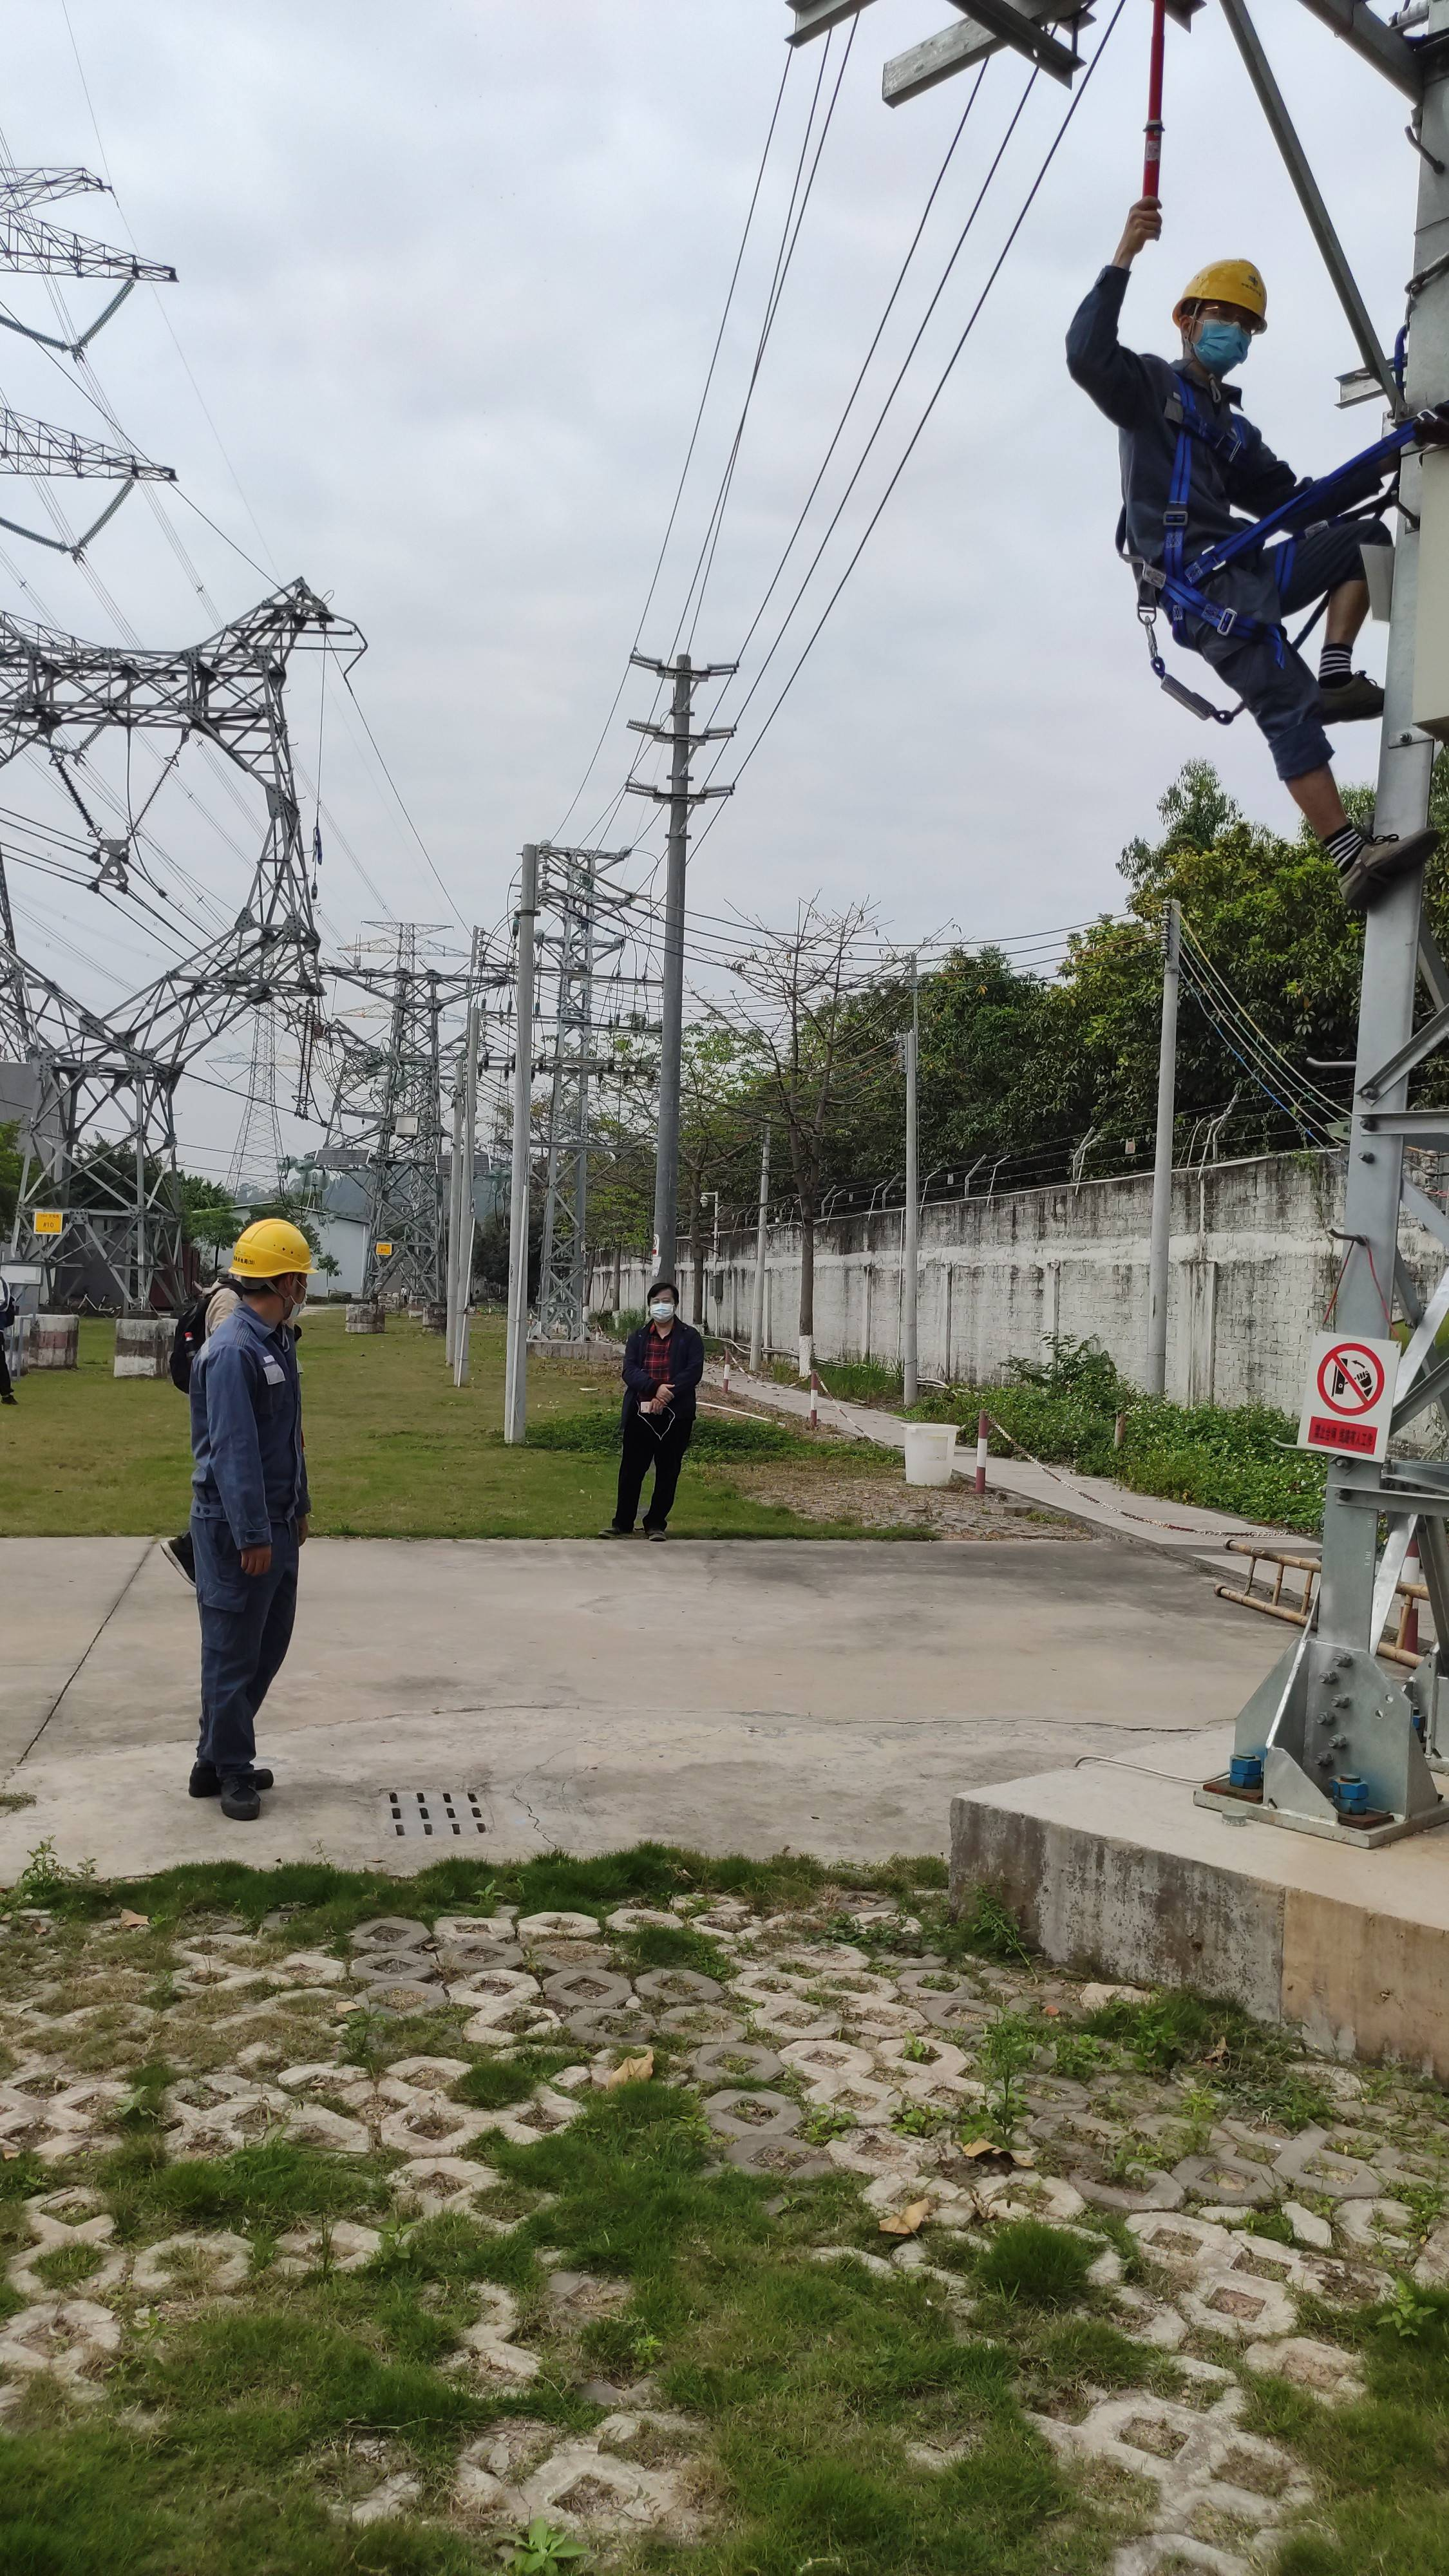downcloth: (619, 1422, 692, 1529)
downsuit: (195, 1536, 294, 1775)
upcloth: (628, 1329, 702, 1419)
upsuit: (1109, 356, 1263, 582), (195, 1330, 304, 1523)
wrongbottom: (1263, 725, 1373, 885), (1313, 538, 1389, 671)
